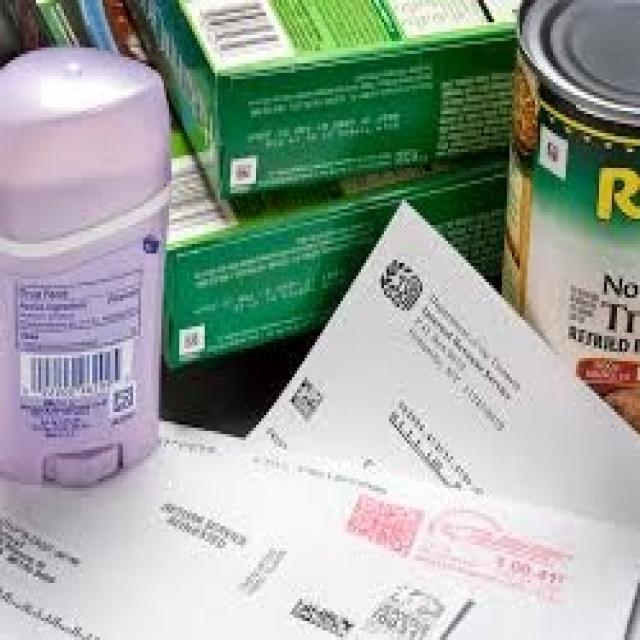datamatrix: (288, 369, 329, 429), (106, 375, 139, 419), (231, 159, 257, 188), (180, 327, 203, 356)
